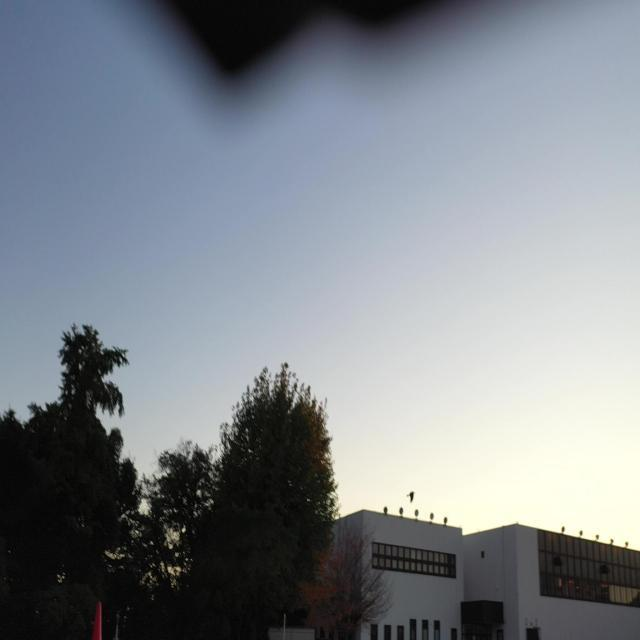Birds: (406, 492, 418, 509)
